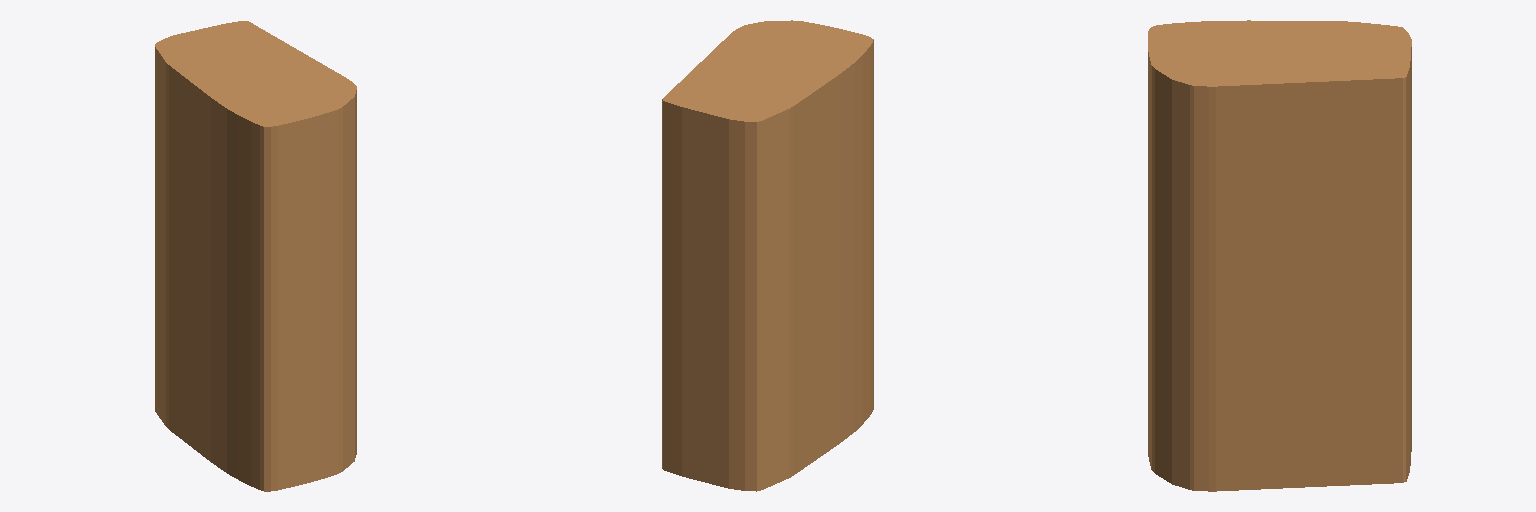
robot.urdf — drink_ad:
<?xml version="1.0"?>
<robot name="drink_ad">
  <material name="obj_color">
    <color rgba="0.8 0.6 0.4 1.0"/>
  </material>
  <link name="base">
    <inertial>
      <origin xyz="0 0 0" rpy="0 0 0"/>
      <mass value="0.1"/>
      <inertia ixx="0.001" ixy="0" ixz="0" iyy="0.001" iyz="0" izz="0.001"/>
    </inertial>
    <visual>
      <origin xyz="0 0 0" rpy="0 0 0"/>
      <geometry><mesh filename="scan.obj" scale="1 1 1"/></geometry>
      <material name="obj_color"/>
    </visual>
    <collision>
      <origin xyz="0 0 0" rpy="0 0 0"/>
      <geometry><mesh filename="scan.obj" scale="1 1 1"/></geometry>
    </collision>
  </link>
</robot>

--- Facts derived from the render (not from the file) ---
The picture shows the robot from 3 angles, left to right: view 1: azimuth 30°, elevation 25°; view 2: azimuth 150°, elevation 25°; view 3: azimuth 270°, elevation 25°; orthographic projection.
Model drink_ad with 1 links and 0 joints (none), rooted at base, posed all joints at 0.
Links seen in each view (by area): view 1: base; view 2: base; view 3: base.
Link boxes in pixels (left/top/right/bottom): base: left=155, top=21, right=356, bottom=491; base: left=662, top=20, right=873, bottom=491; base: left=1148, top=20, right=1411, bottom=491.
Size in the robot's own frame: 0.07 by 0.1182 by 0.2 metres.
Meshes: 1 distinct files referenced, 1 mesh visuals loaded (1 OBJ).
